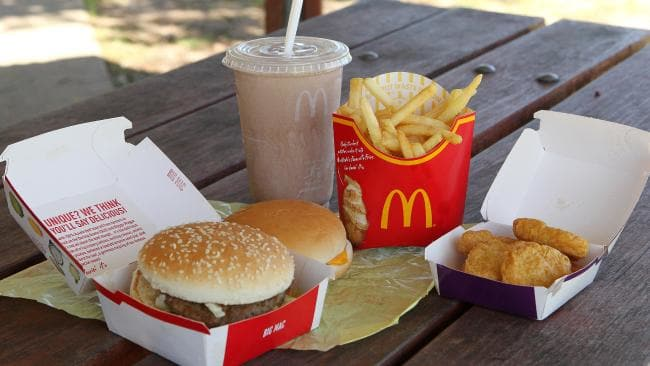mcdonalds: (377, 184, 439, 237)
